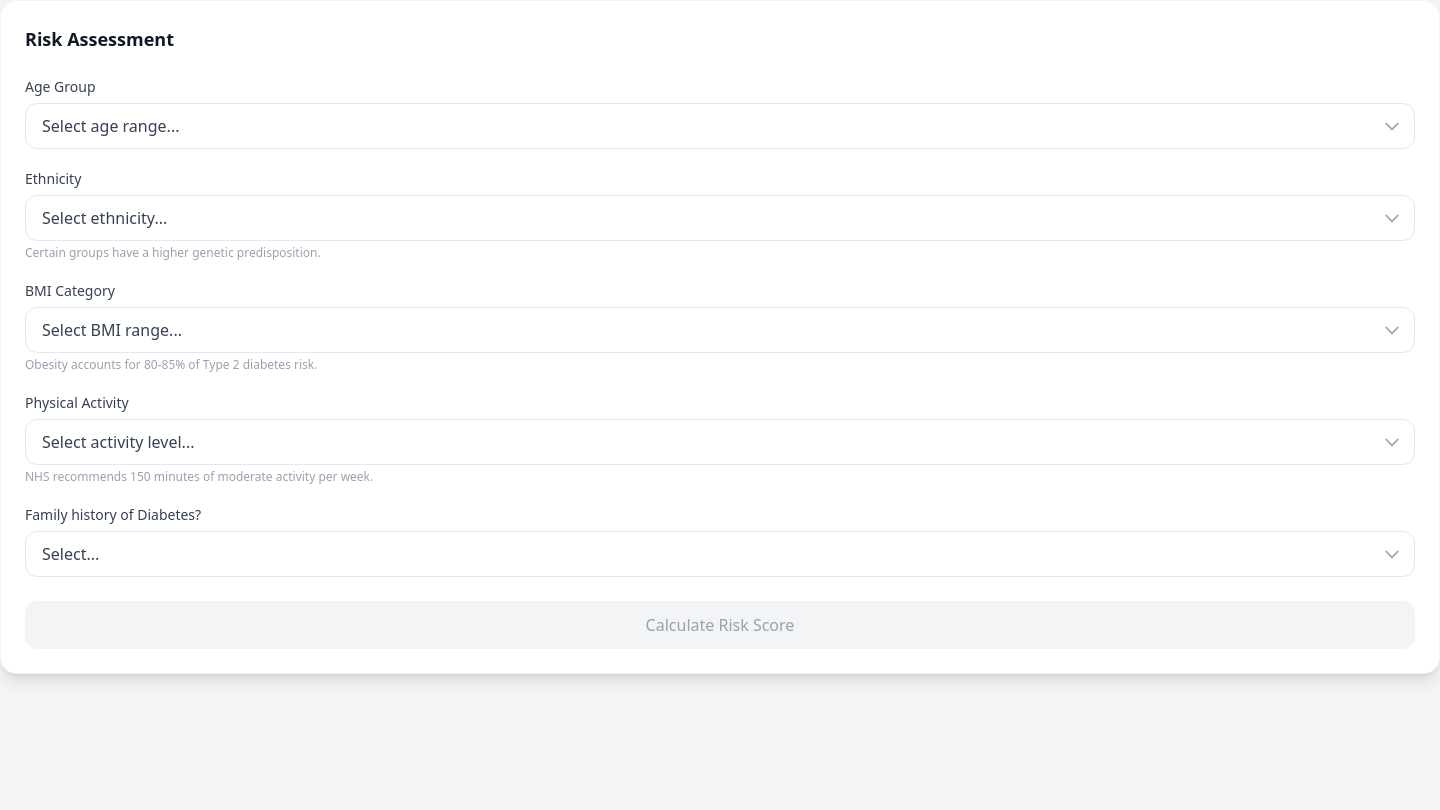
Scenario: DiabetesRiskAssessment Component › enables the button when all fields correspond to a selection
The image size is (1440, 810).
Note: Select options to fill out the form
Select "25-34" in the dropdown labelled "Age Group" at (720, 126), box [25,103,1415,149]
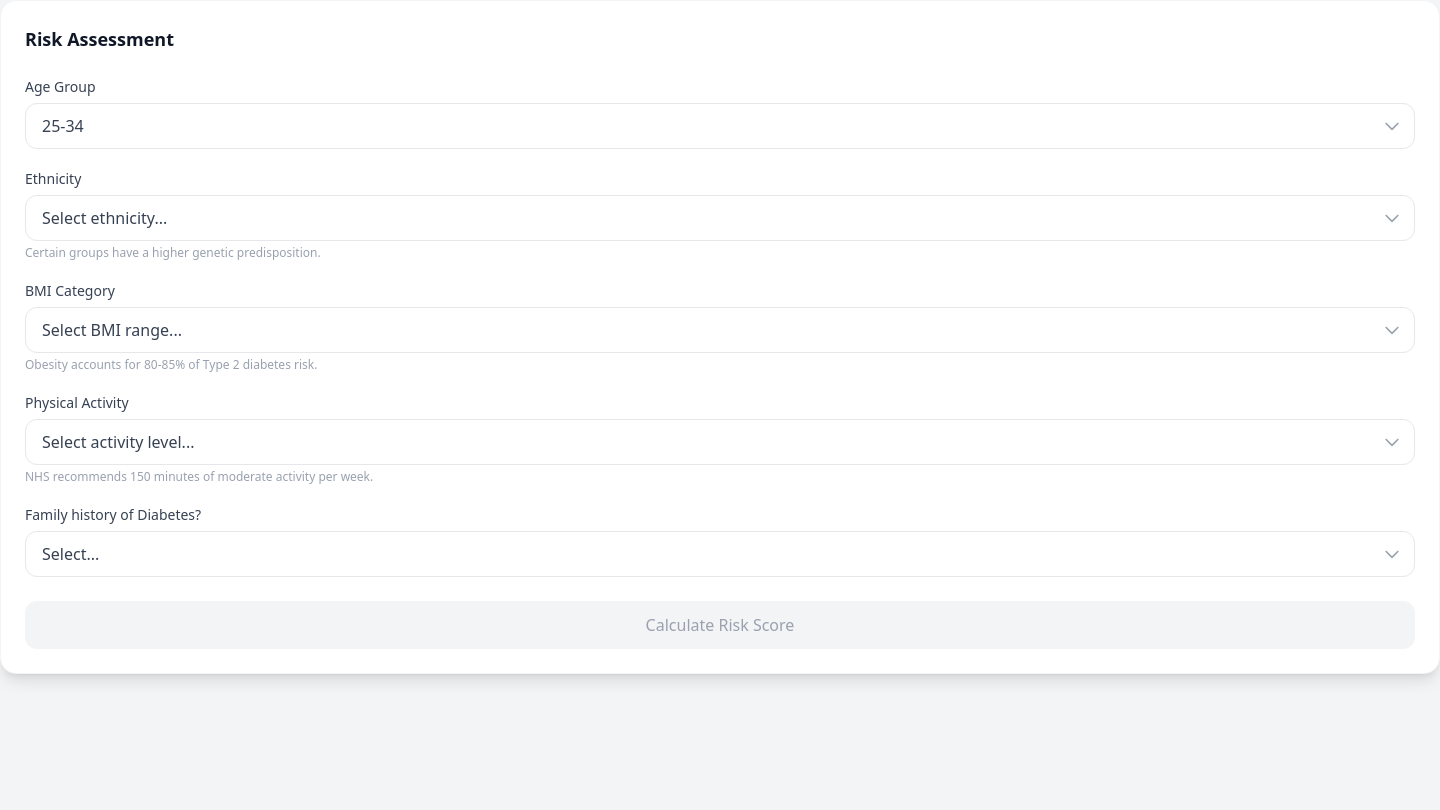
Select "White" in the dropdown labelled "Ethnicity" at (720, 218), box [25,195,1415,241]
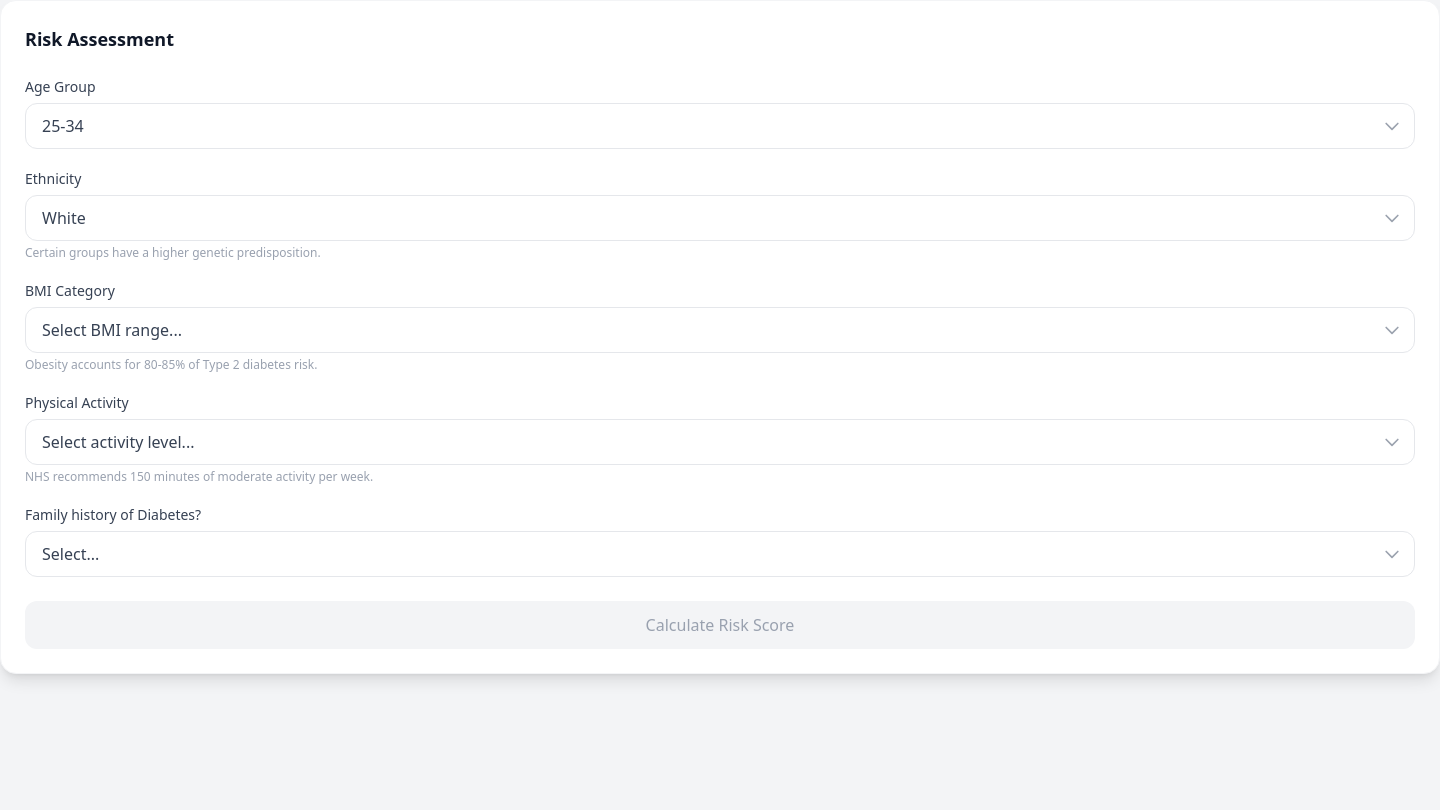
Select "Healthy (under 25)" in the dropdown labelled "BMI Category" at (720, 330), box [25,307,1415,353]
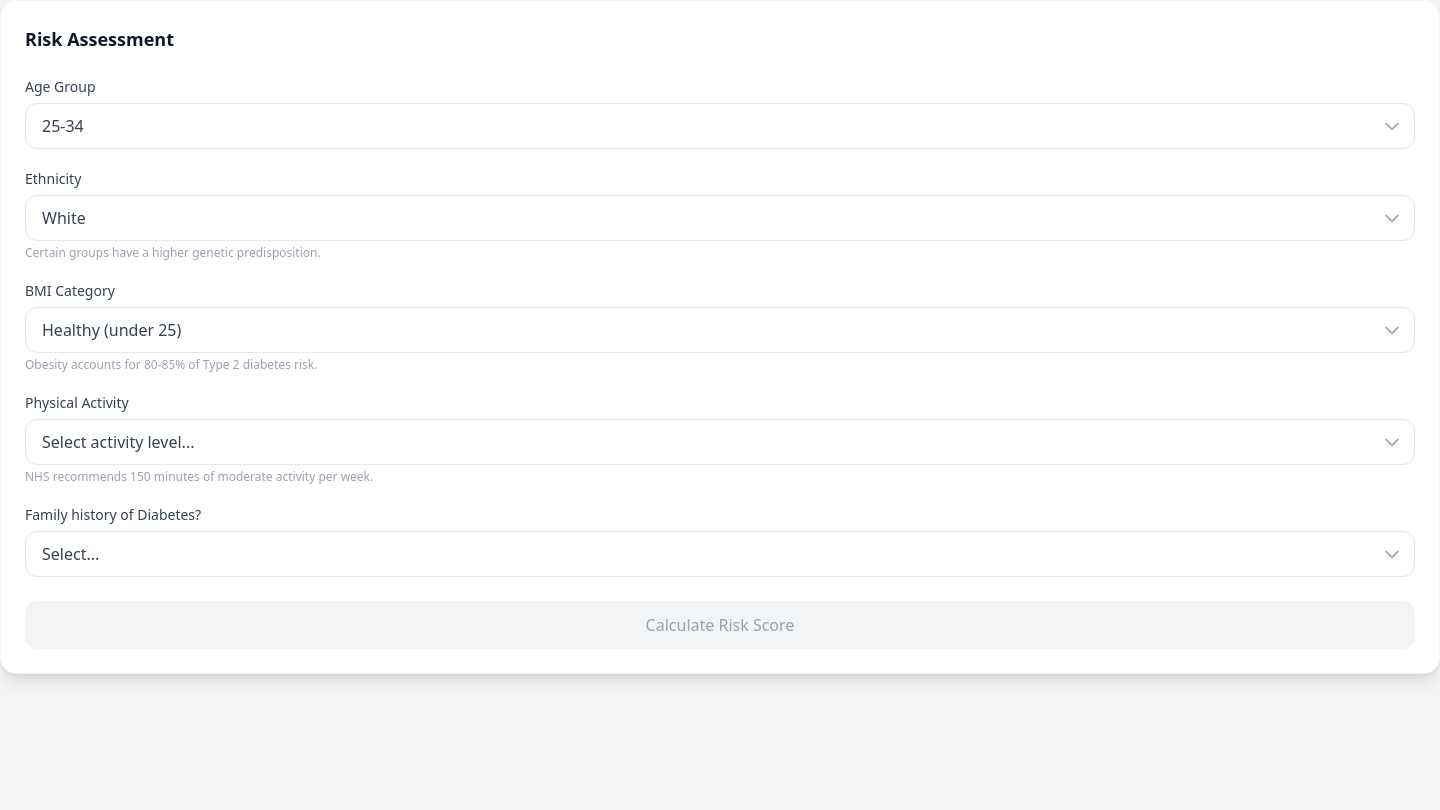
Select "150+ minutes per week" in the dropdown labelled "Physical Activity" at (720, 442), box [25,419,1415,465]
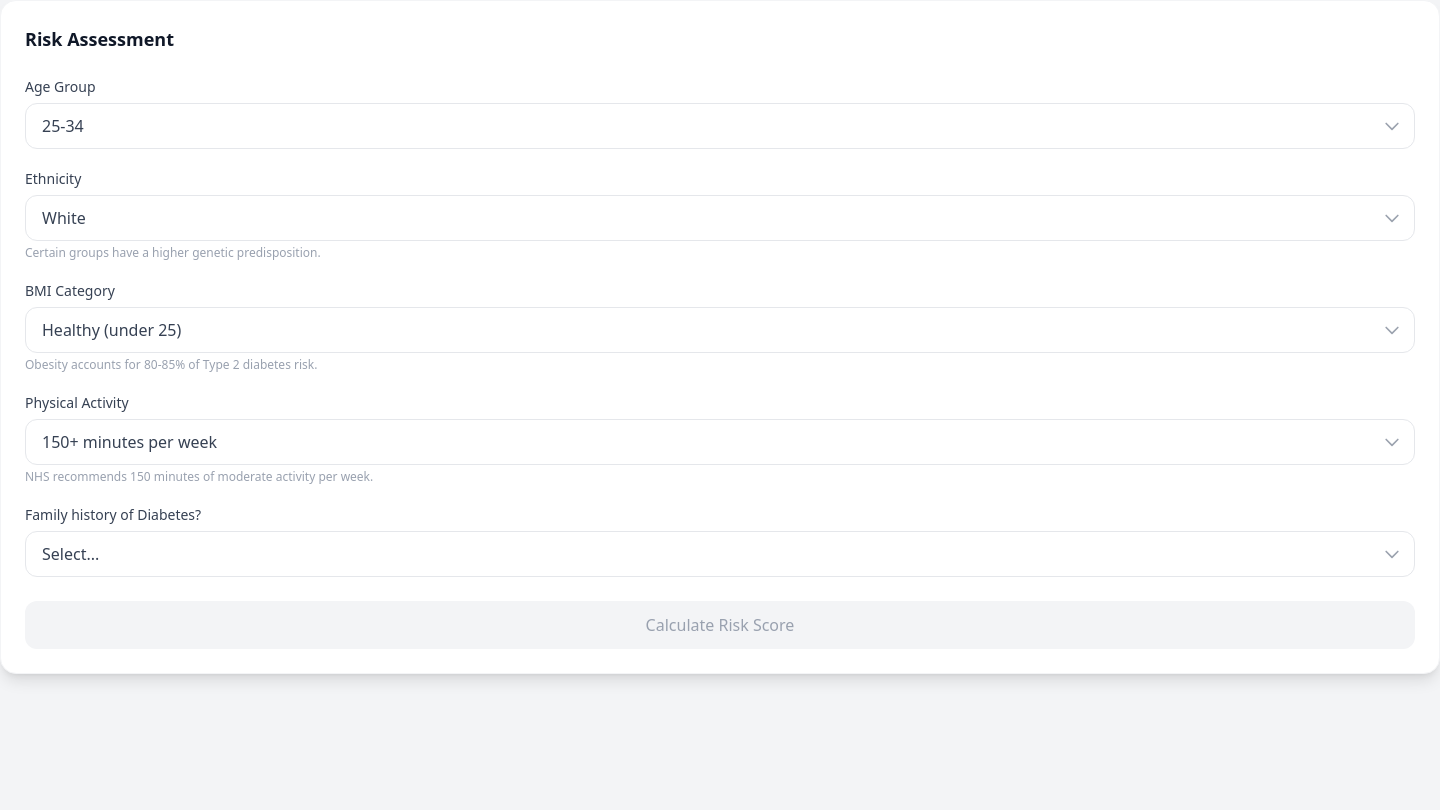
Select "No family history" in the dropdown labelled "Family history of Diabetes?" at (720, 554), box [25,531,1415,577]
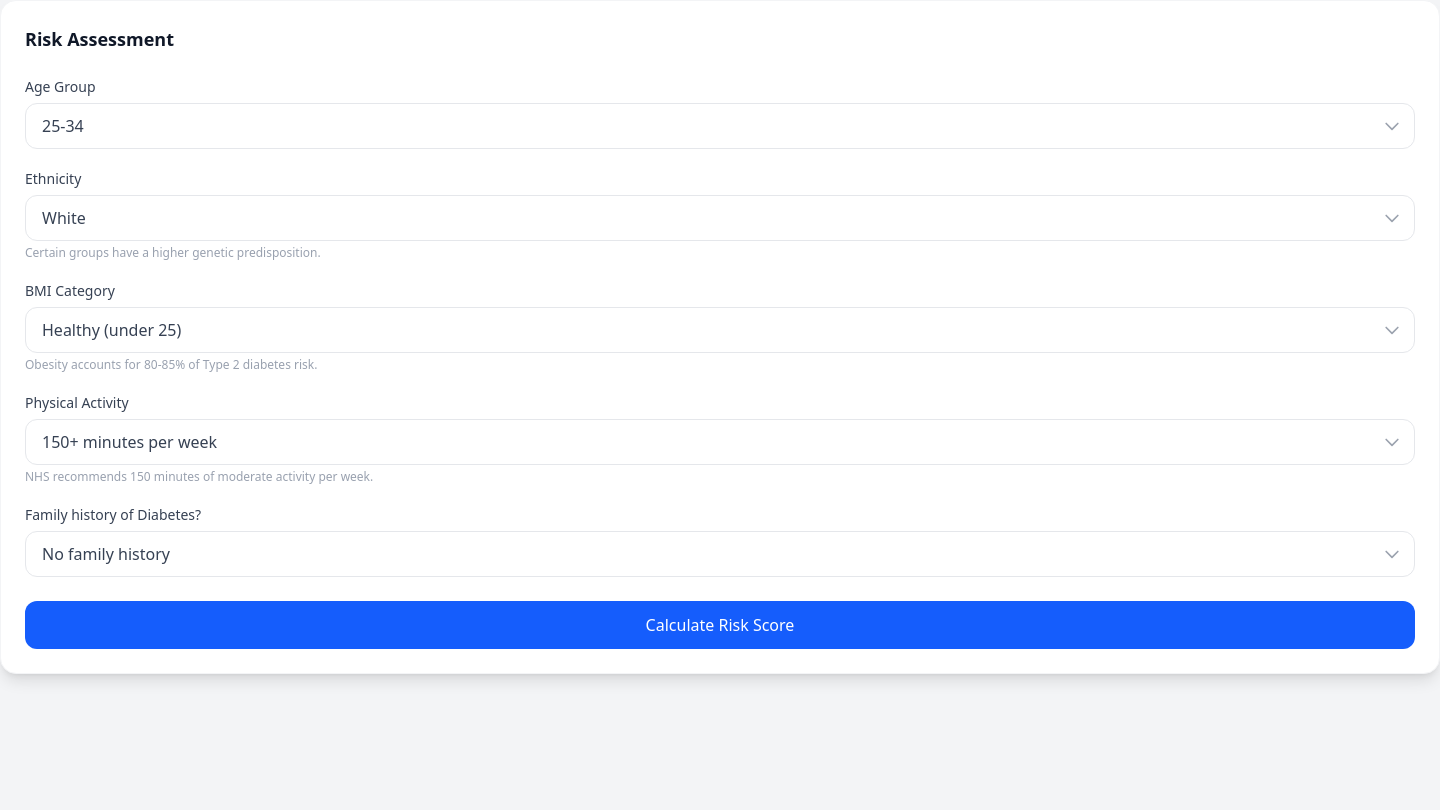
Expected: the button "Calculate Risk Score" is enabled, [25,601,1415,649]
